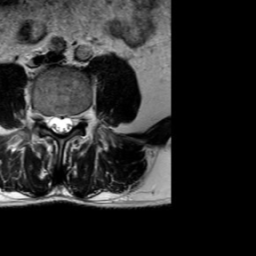CCS_stenosis: (56, 105, 64, 140)
LFS_normal: (73, 103, 82, 129)
LLS_normal: (64, 105, 73, 137)
RFS_normal: (40, 102, 48, 132)
RLS_normal: (48, 105, 56, 137)
